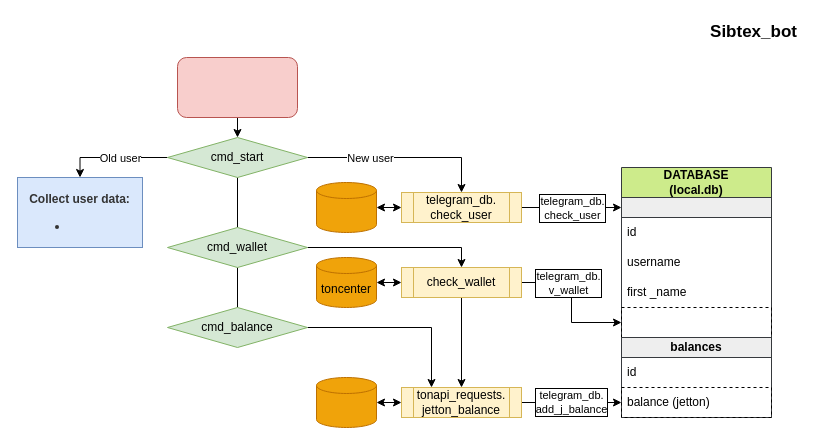
Image size: 825x445. Some labels were removed from this diagram. The shapes that lost their labels are listed below. From the top down, each one's centre as x and y in pixels, then its label:
At point (237, 87): "User enter".
At point (346, 207): "telegram api".
At point (696, 207): "users".
At point (696, 322): "wallet (TON address)".
At point (346, 402): "tonapi.io".
